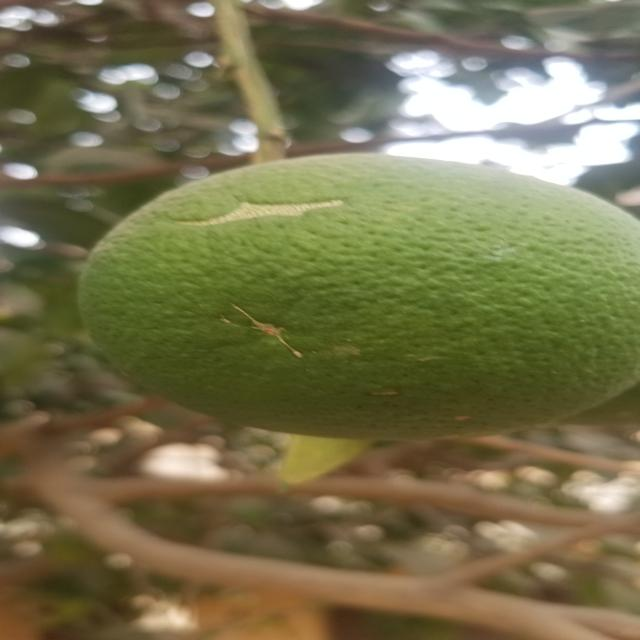Unripe: (78, 156, 640, 438)
